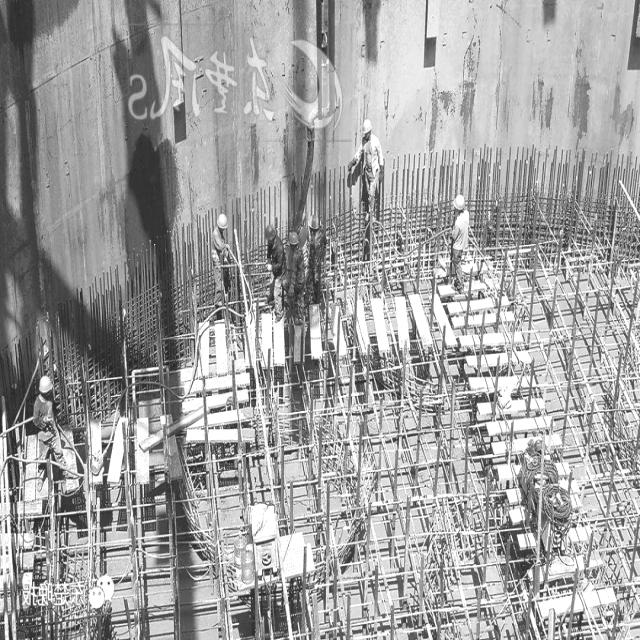head_helmet: (38, 373, 54, 396), (451, 194, 466, 208), (265, 224, 277, 241), (297, 226, 307, 242), (218, 213, 231, 225), (308, 216, 320, 229), (363, 118, 374, 132), (288, 235, 297, 244)
person: (31, 367, 64, 494), (440, 189, 476, 291), (351, 117, 380, 226), (206, 211, 234, 318), (261, 225, 284, 311), (310, 212, 329, 293), (297, 228, 312, 313), (284, 232, 296, 322)
